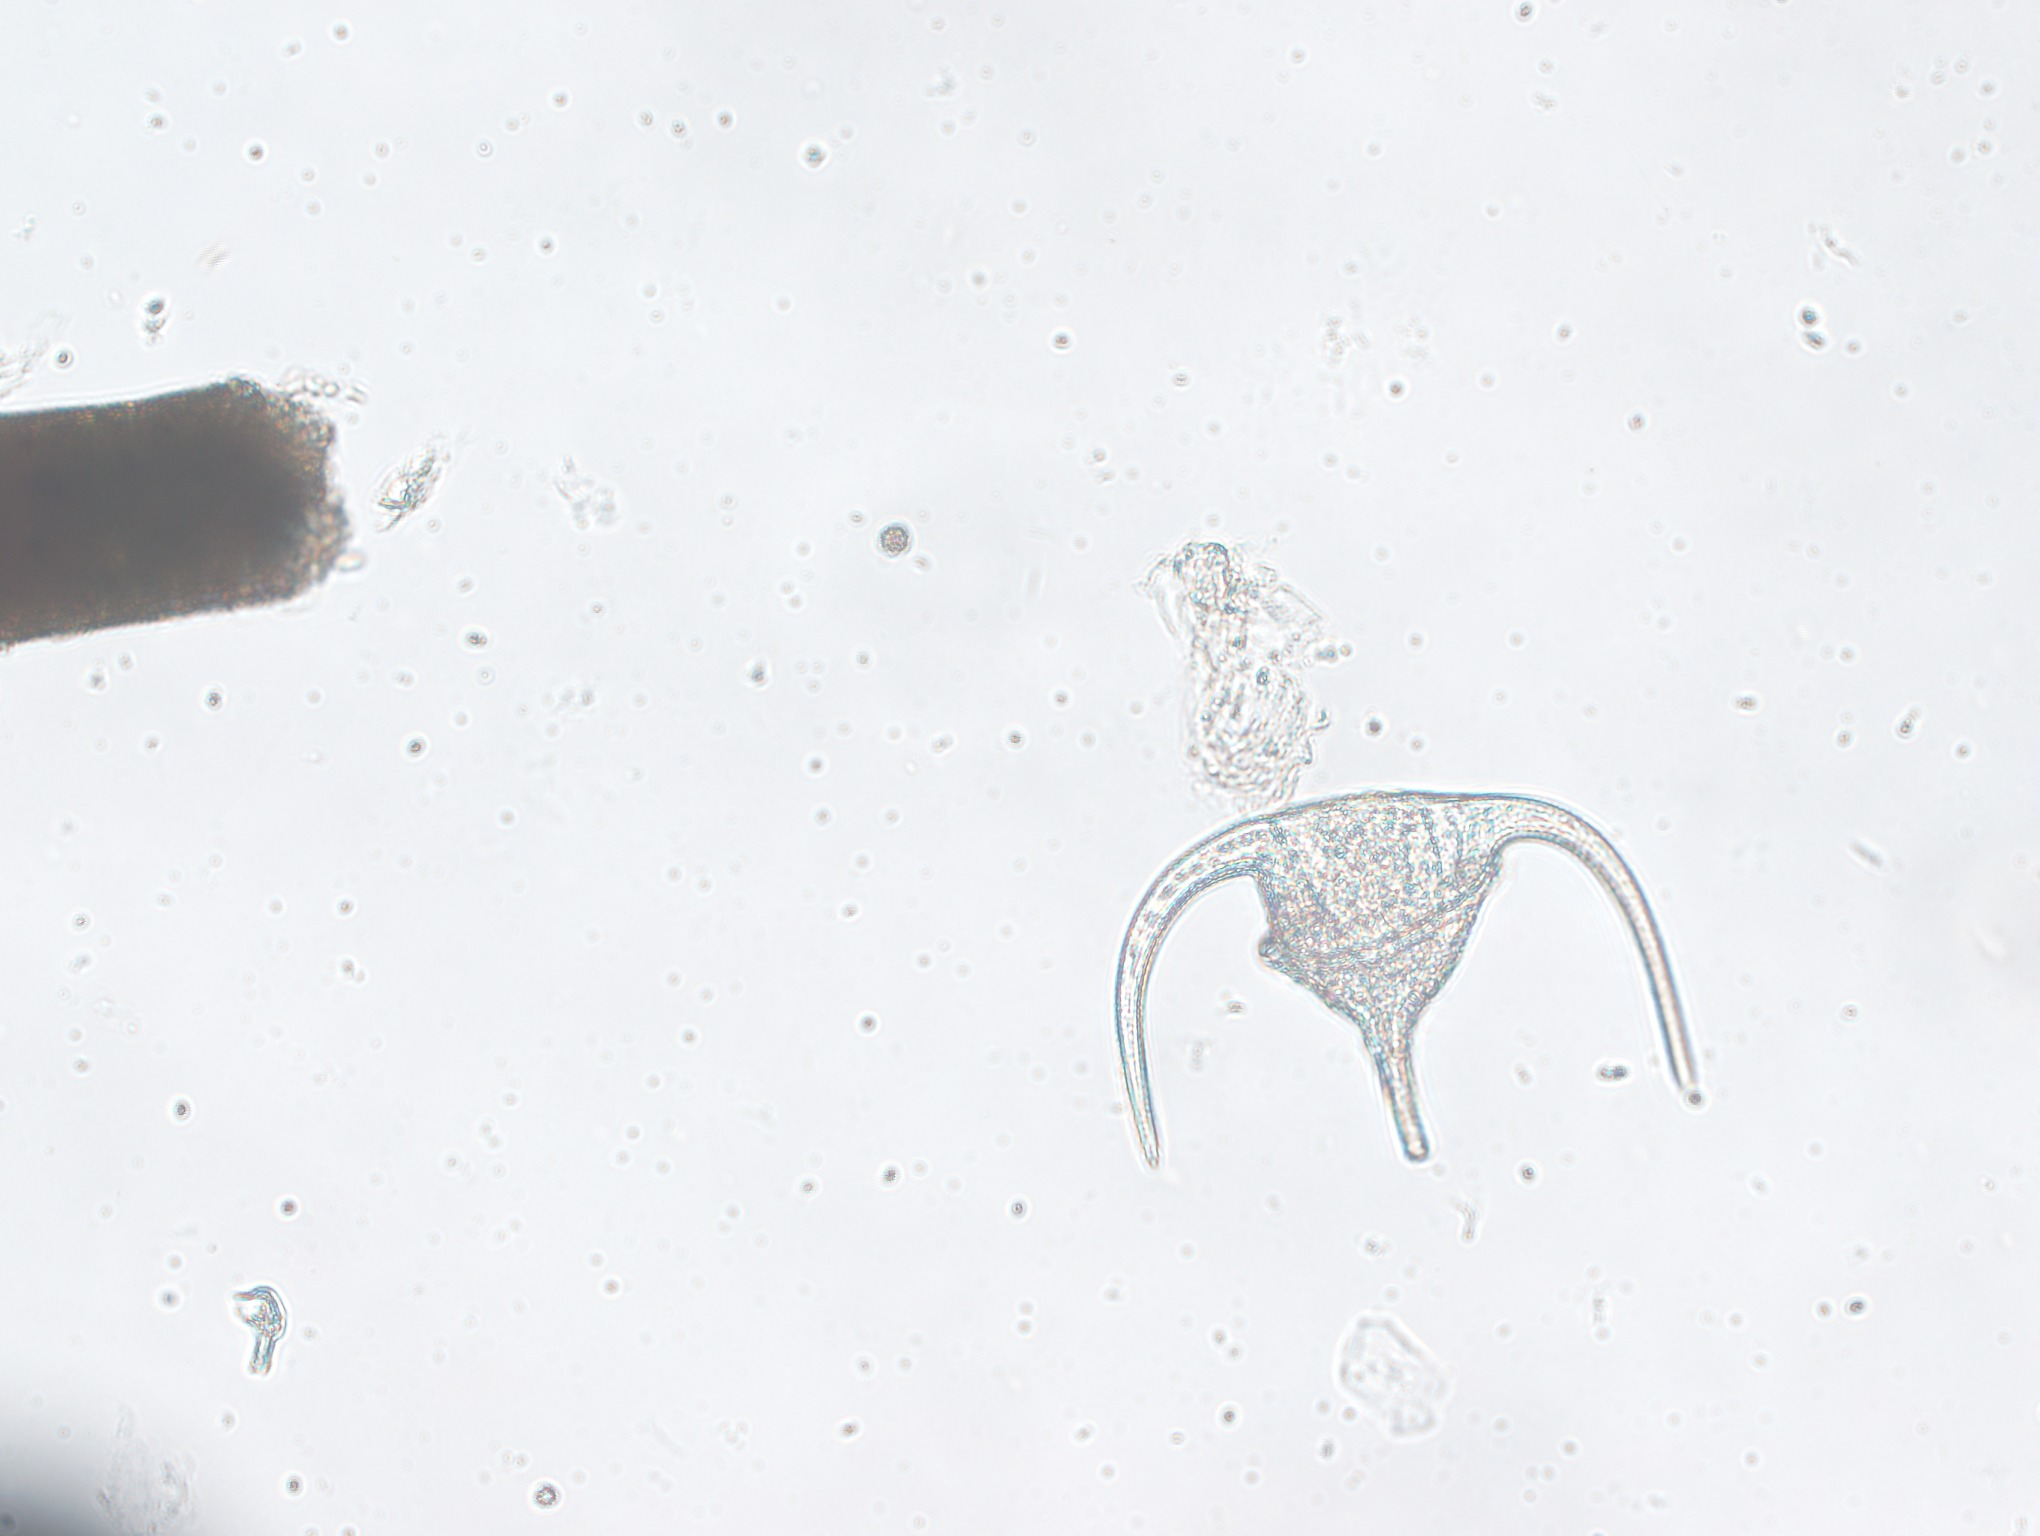ceratium tripos: (1100, 786, 1709, 1181)
